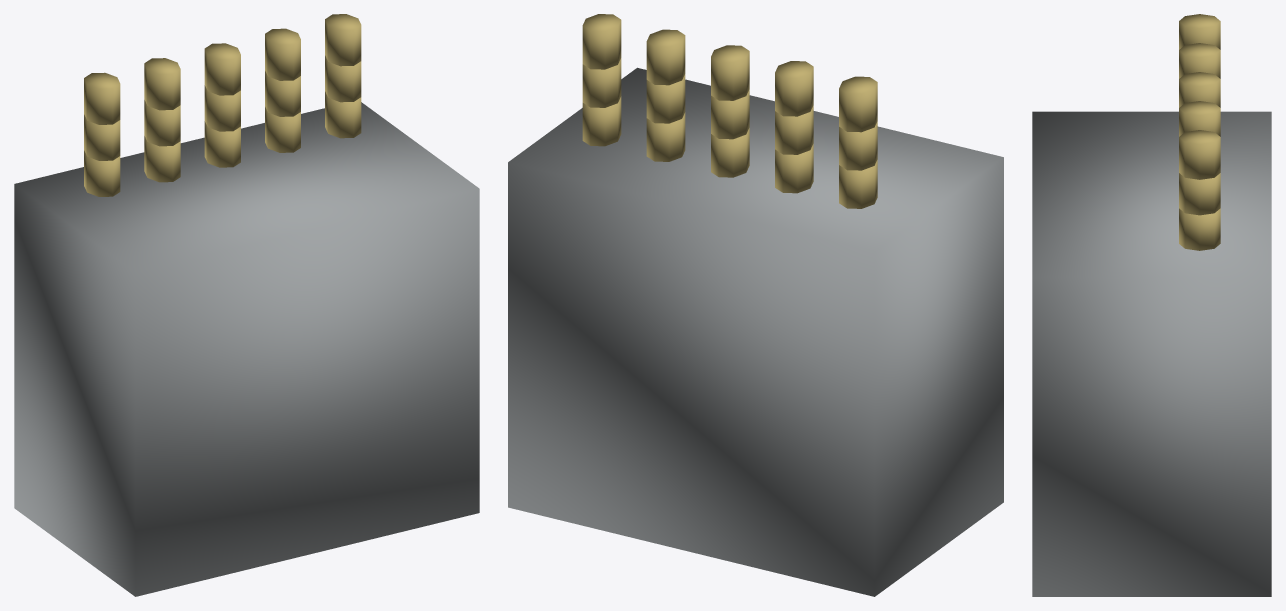
Rendered from votive_candle_stand__deep.glb.
3 renders of one model, left to right at view 1: azimuth 30°, elevation 25°; view 2: azimuth 150°, elevation 25°; view 3: azimuth 270°, elevation 25°, orthographic. The views are drawn at different scales.
Parts seen in each view (by area): view 1: world; view 2: world; view 3: world.
Boxes of the visible parts, x1,y1,x2,y2 form: world: (14, 14, 479, 596); world: (508, 14, 1003, 596); world: (1032, 14, 1271, 596).
Size of the model in its own units: 0.8 by 0.98 by 0.488.
